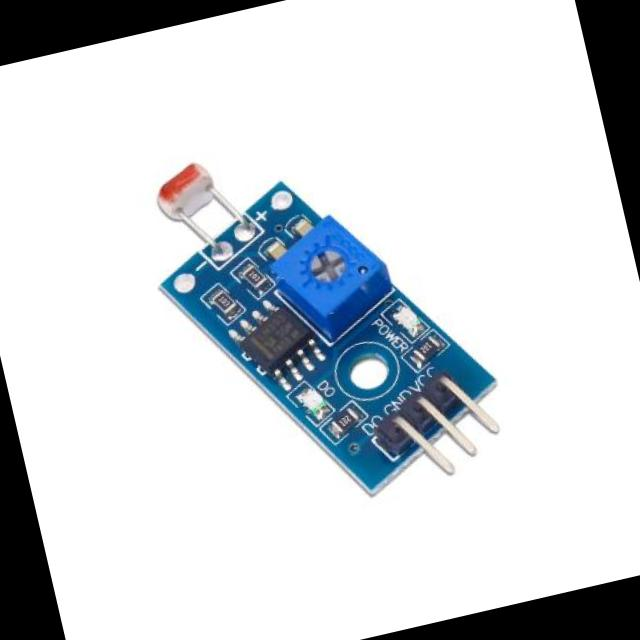IC: (230, 294, 326, 390)
LED: (392, 298, 428, 342), (294, 384, 330, 420)
capacitor: (288, 213, 318, 240), (260, 235, 286, 262)
connector: (372, 362, 520, 496)
potentiometer: (269, 204, 395, 328)
resistor: (236, 252, 274, 300), (318, 397, 362, 438), (207, 280, 239, 323), (409, 332, 442, 363)
